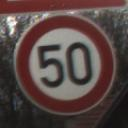speed_limit_50: (14, 15, 114, 114)
